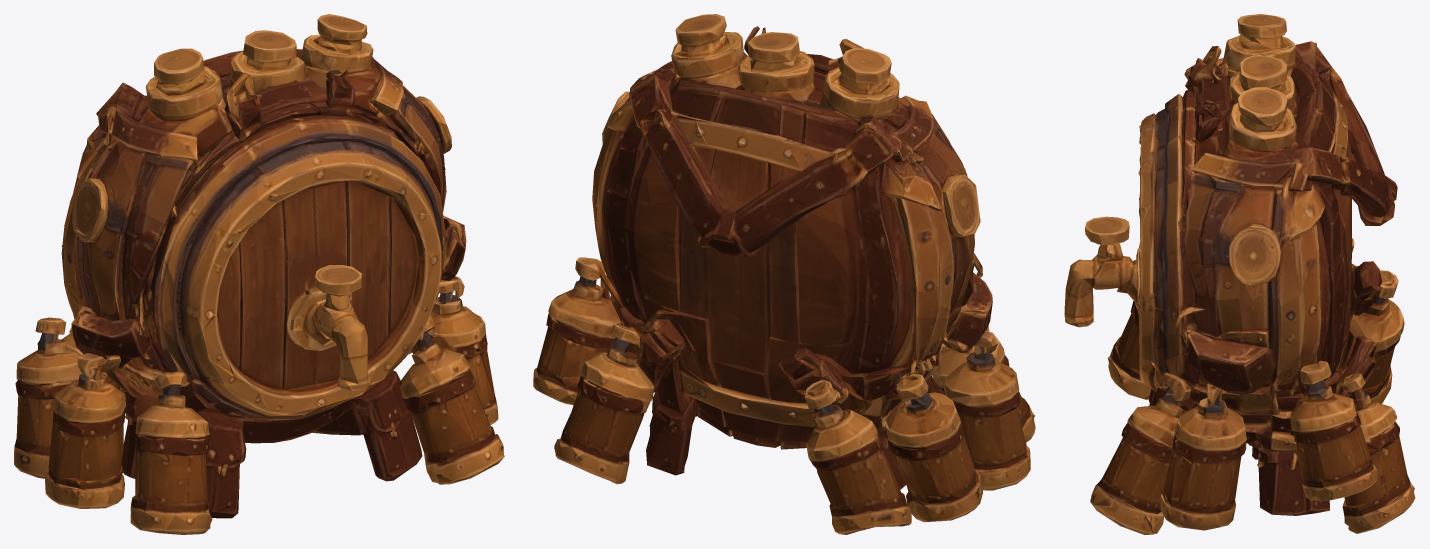
The model's file is keg-pack.glb.
3 views of the same model, side by side, from view 1: azimuth 30°, elevation 25°; view 2: azimuth 150°, elevation 25°; view 3: azimuth 270°, elevation 25° (orthographic). The views are drawn at different scales.
Visible parts, largest first — view 1: Mesh_0; view 2: Mesh_0; view 3: Mesh_0.
Part boxes in pixels (x1,y1,x2,y2): Mesh_0: (14, 14, 504, 534); Mesh_0: (533, 14, 1035, 534); Mesh_0: (1064, 14, 1415, 534).
Size of the model in its own units: 1.9 by 1.85 by 1.41.
1 material, 1 textured.
